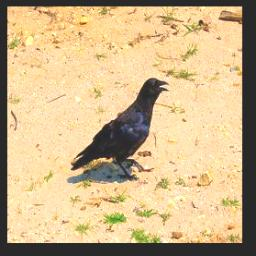Crow: (72, 77, 170, 180)
